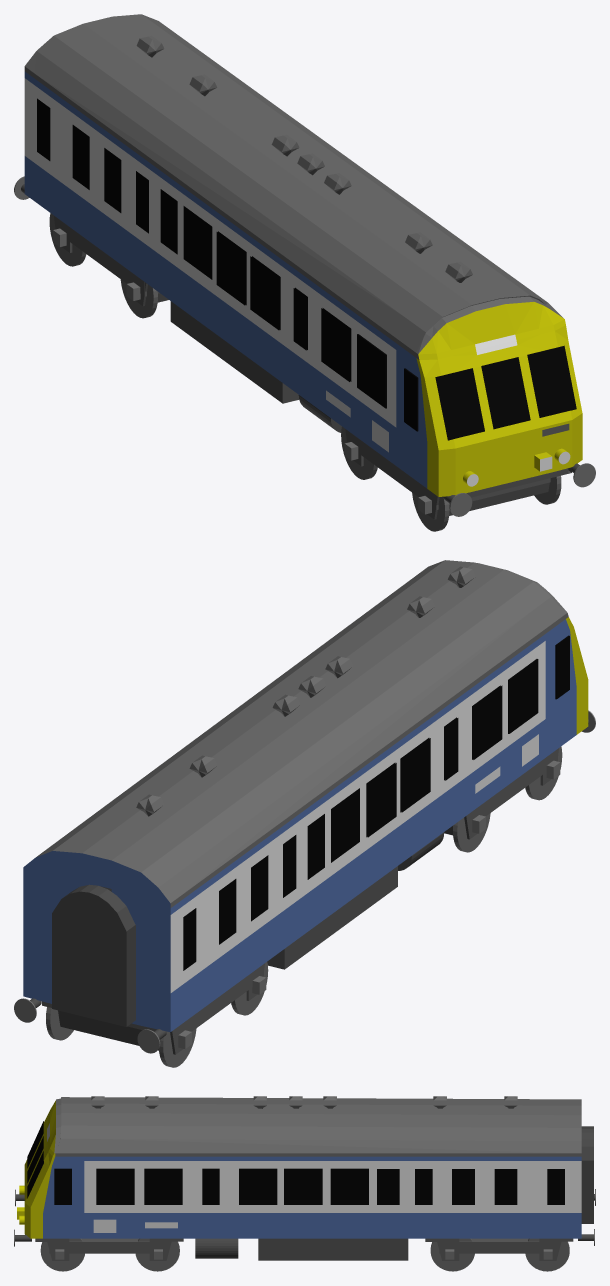
File: BR-101-dmbs-bg.dae
3 views of the same model, one above another, from view 1: azimuth 30°, elevation 25°; view 2: azimuth 150°, elevation 25°; view 3: azimuth 270°, elevation 25° (orthographic). The views are drawn at different scales.
Visible parts, largest first — view 1: BR-cl101-front_rear, Cube_001, Cube_043, Cube_043_001, Cube_061, Cylinder_009; view 2: BR-cl101-front_rear, Cube, Cube_001, Cube_060_001, Cube_043_001, Cube_043, Cylinder_008_001, Cylinder_008; view 3: BR-cl101-front_rear, Cube_001, Cube_043, Cube_043_001, Cube, Cylinder_002, Cylinder_011_001, Cylinder_011, Cylinder_010_001, Cylinder_010, Cube_061_001, Cube_061 (+3 smaller).
Part boxes in pixels (x1,y1,x2,y2): BR-cl101-front_rear: (24, 14, 582, 497); Cube_001: (170, 301, 298, 403); Cube_043: (361, 441, 550, 509); Cube_043_001: (70, 227, 159, 296); Cube_061: (427, 482, 549, 519); Cylinder_009: (412, 492, 449, 531); BR-cl101-front_rear: (23, 560, 588, 1032); Cube: (52, 884, 135, 1026); Cube_001: (267, 866, 397, 969); Cube_060_001: (42, 1001, 188, 1054); Cube_043_001: (188, 964, 263, 1031); Cube_043: (482, 749, 557, 816); Cylinder_008_001: (159, 1028, 196, 1067); Cylinder_008: (453, 813, 490, 852); BR-cl101-front_rear: (24, 1096, 581, 1238); Cube_001: (258, 1238, 408, 1260); Cube_043: (49, 1238, 168, 1253); Cube_043_001: (439, 1238, 557, 1253); Cube: (581, 1126, 593, 1223); Cylinder_002: (195, 1238, 238, 1258); Cylinder_011_001: (525, 1238, 569, 1271); Cylinder_011: (135, 1238, 179, 1271); Cylinder_010_001: (430, 1238, 474, 1271); Cylinder_010: (40, 1238, 84, 1271); Cube_061_001: (425, 1238, 459, 1260); Cube_061: (35, 1238, 69, 1260).
Bounding box in the file's own units: 2.04 × 10.32 × 3.05.
